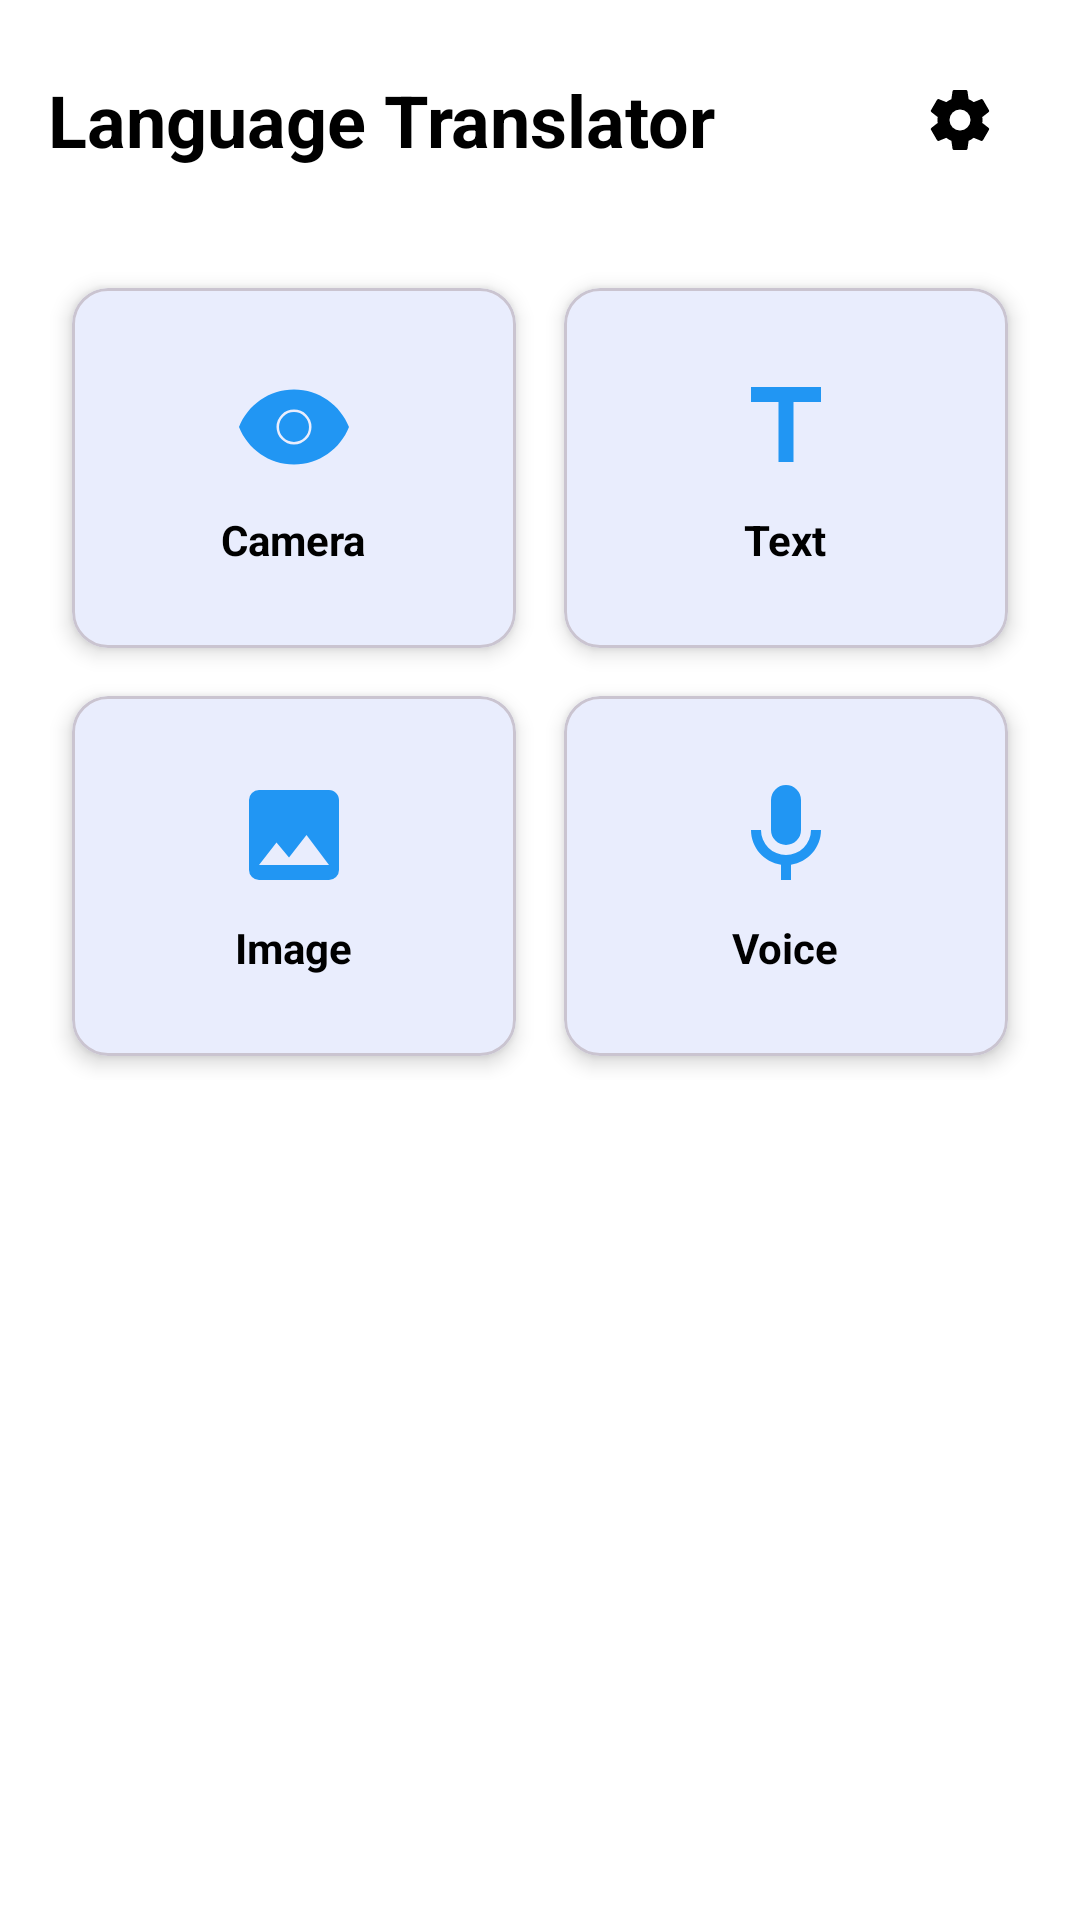

Named icons in this screenshot (1080px×1920px) and their centers, [x,y]:
mic: [786,832]
Settings: [959,120]
